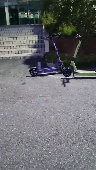beam: (28, 34, 73, 76)
gcooter: (61, 32, 96, 77)
